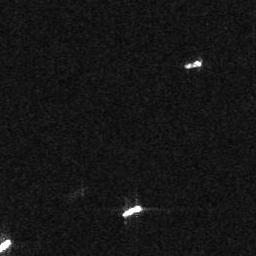ship: (120, 203, 142, 218), (184, 59, 202, 70)
